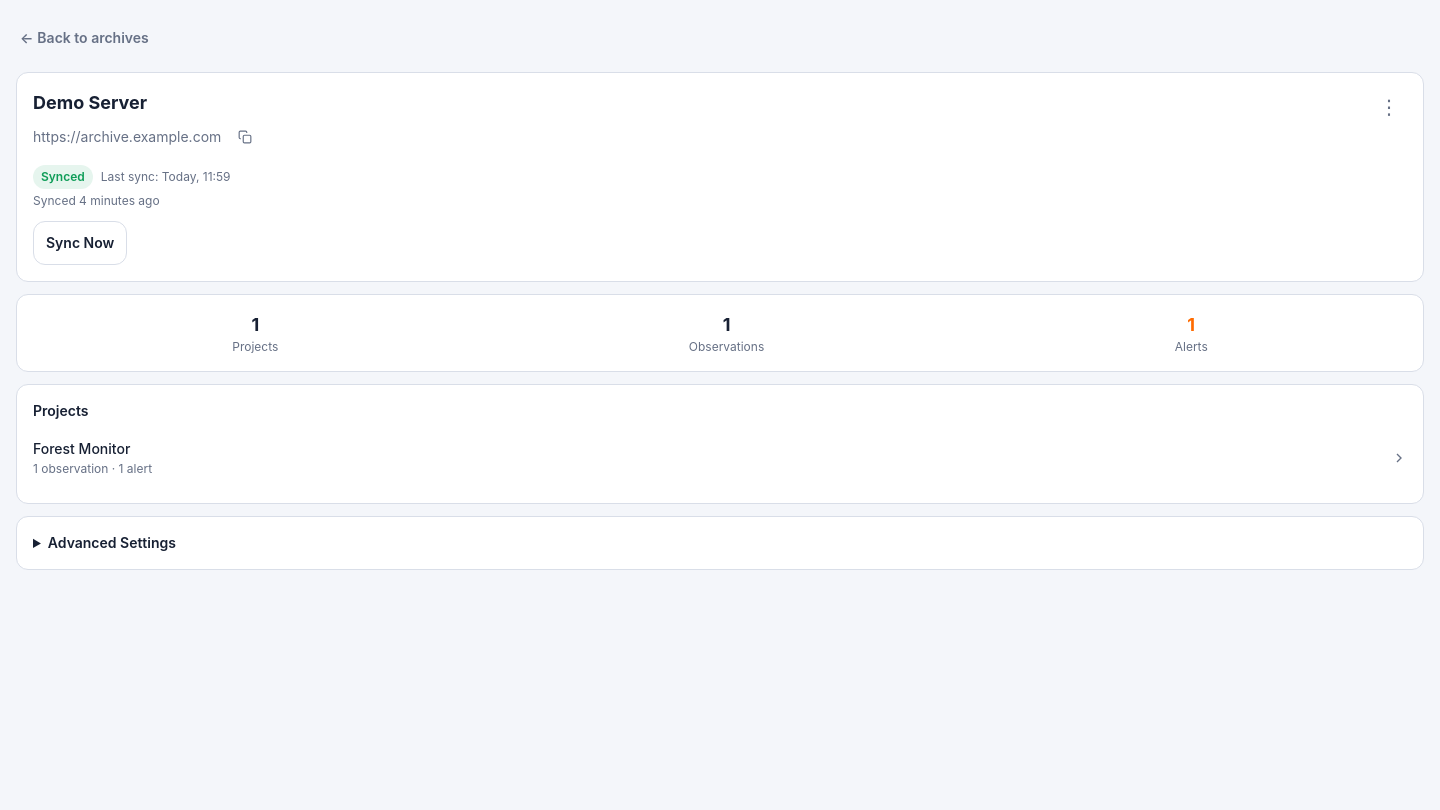
Test case: ArchiveServerDetail › keeps remove de-emphasized in overflow and the advanced danger zone
Expected: the button "remove" is not shown
Click the button named "archive actions". click: [1389, 107]
box: [1371,89,1407,125]
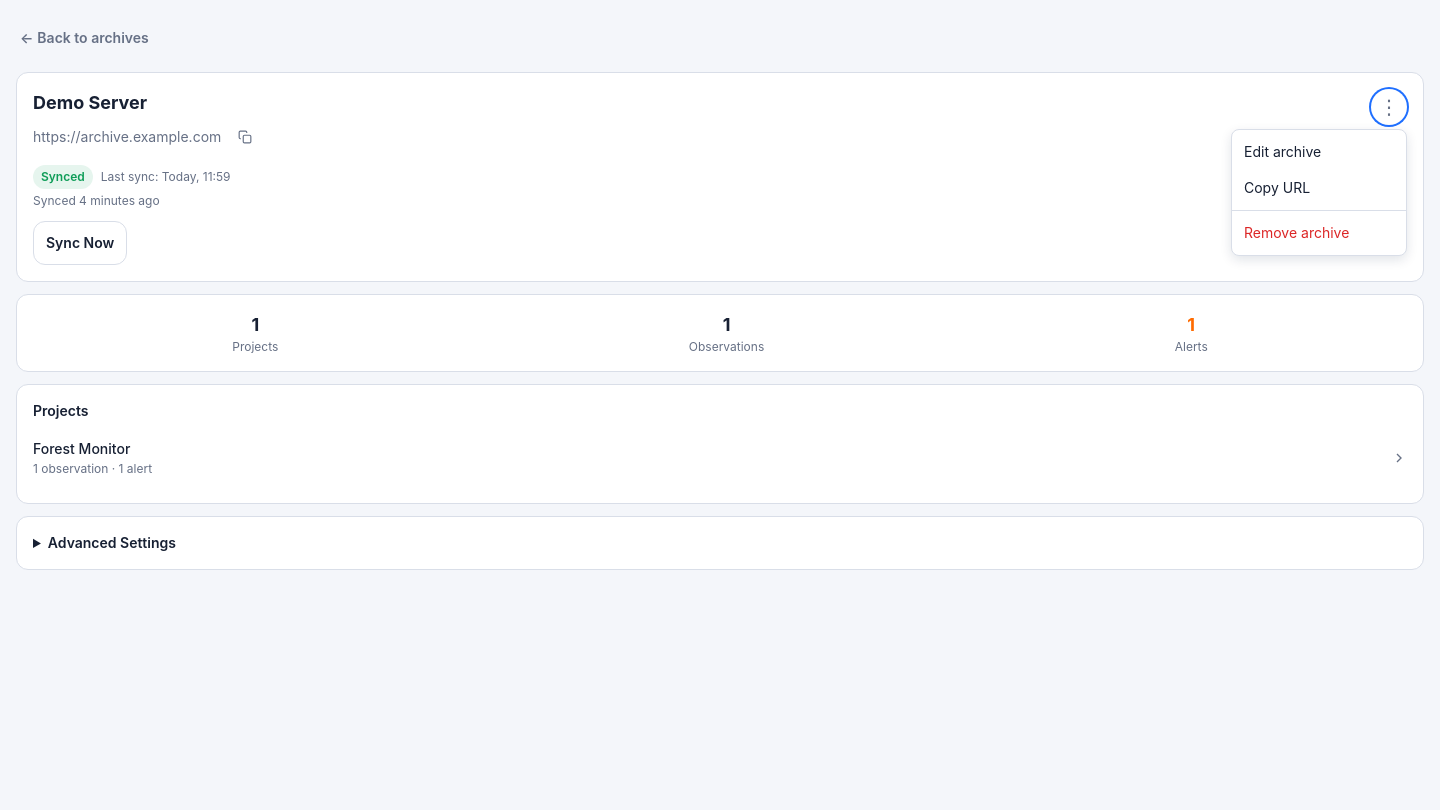
Expected: the menu item "Remove archive" is shown, [1232,215,1406,251]
Click the heading "Advanced Settings". click: [112, 542]
box: [48,534,176,551]
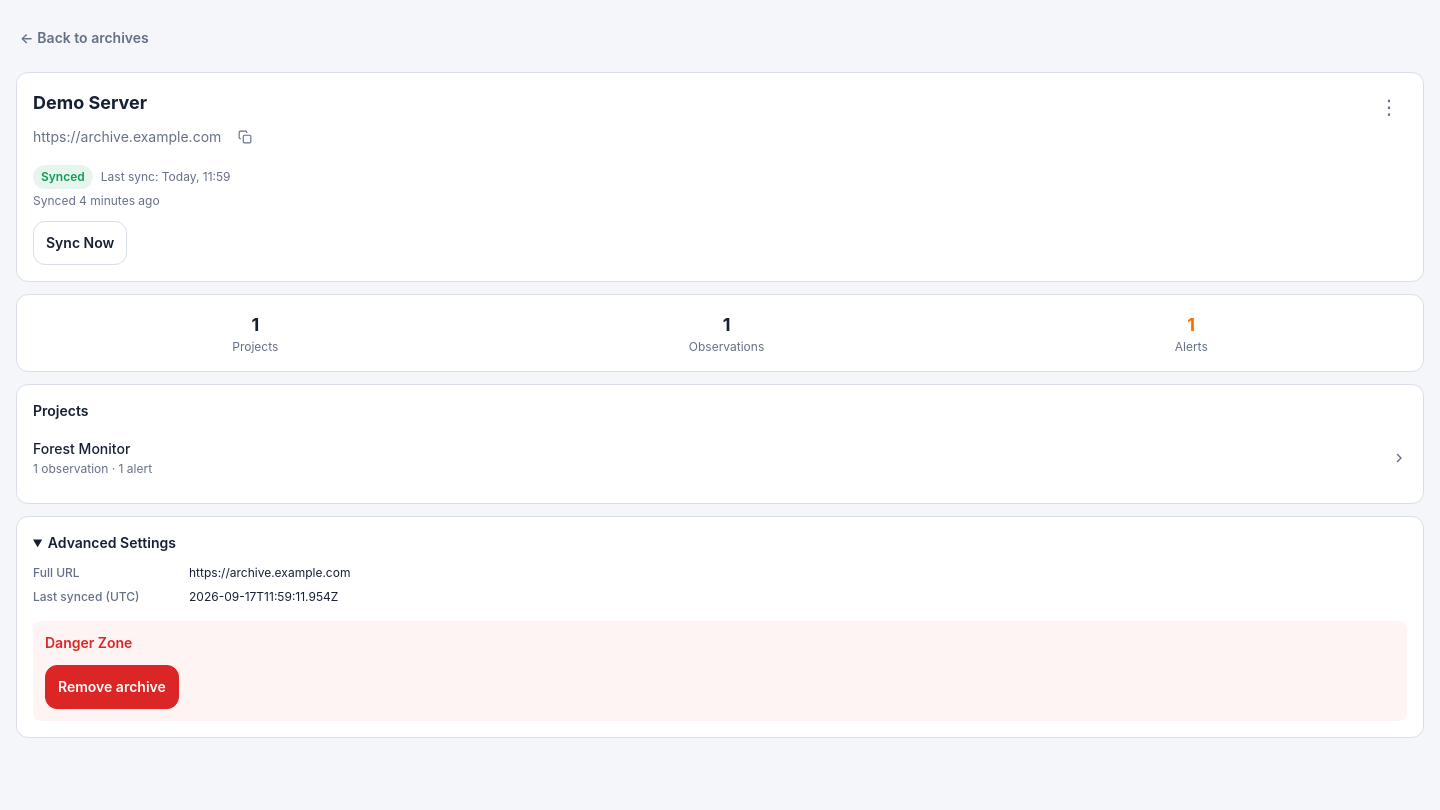
Expected: the button "Remove archive" is shown, [45,665,179,709]
Expected: the heading "Danger Zone" is shown, [45,634,132,651]
